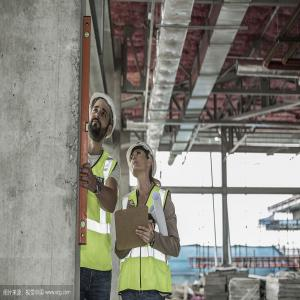white: (89, 91, 117, 143), (127, 140, 158, 185)
